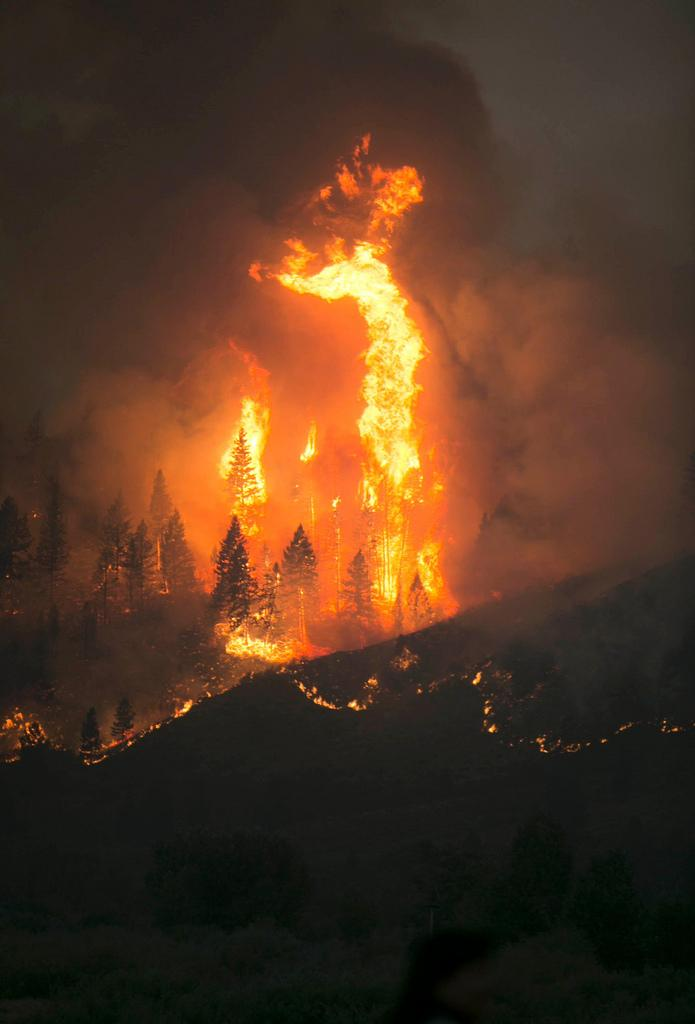fire: (360, 328, 440, 595), (285, 162, 428, 302), (213, 402, 268, 518)
